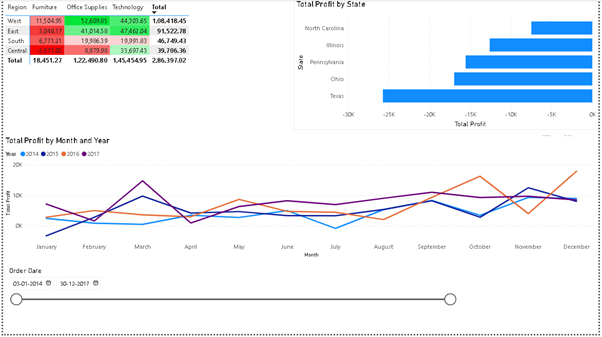

What the dashboard file says about the page in this screenshot:
{"tool":"powerbi","page":{"name":"Regional & Seasonal","canvas":[1280,720],"ordinal":2},"visuals":[{"type":"pivotTable","fields":{"Rows":["Orders.Region"],"Columns":["Orders.Category"],"Values":["_Measures.Total Profit"]},"box":[0,0,626.7,305],"z":0},{"type":"clusteredBarChart","fields":{"Category":["Orders.State"],"Y":["_Measures.Total Profit"]},"box":[626.7,0,653.3,280],"z":1000},{"type":"lineChart","fields":{"Y":["_Measures.Total Profit"],"Series":["Orders.Order Date.Variation.Date Hierarchy.Year"],"Category":["Orders.Order Date.Variation.Date Hierarchy.Month"]},"box":[0,293.3,1280,266.7],"z":2000},{"type":"slicer","fields":{"Values":["Orders.Order Date"]},"box":[0,570,983.3,150],"z":3000},{"type":"textbox","box":[983,570,297,150],"z":4000}]}

Visuals, with their boxes in screenshot pixels (x1, y1, x2, y2), scaled from the page's 1280x720 canvas onto the 602x337 screenshot:
pivotTable - Orders.Region x Orders.Category: rect(0, 0, 295, 143)
clusteredBarChart - Orders.State x _Measures.Total Profit: rect(295, 0, 601, 131)
lineChart - _Measures.Total Profit x Orders.Order Date.Variation.Date Hierarchy.Year: rect(0, 137, 601, 262)
slicer - Orders.Order Date: rect(0, 267, 462, 336)
textbox: rect(462, 267, 601, 336)
